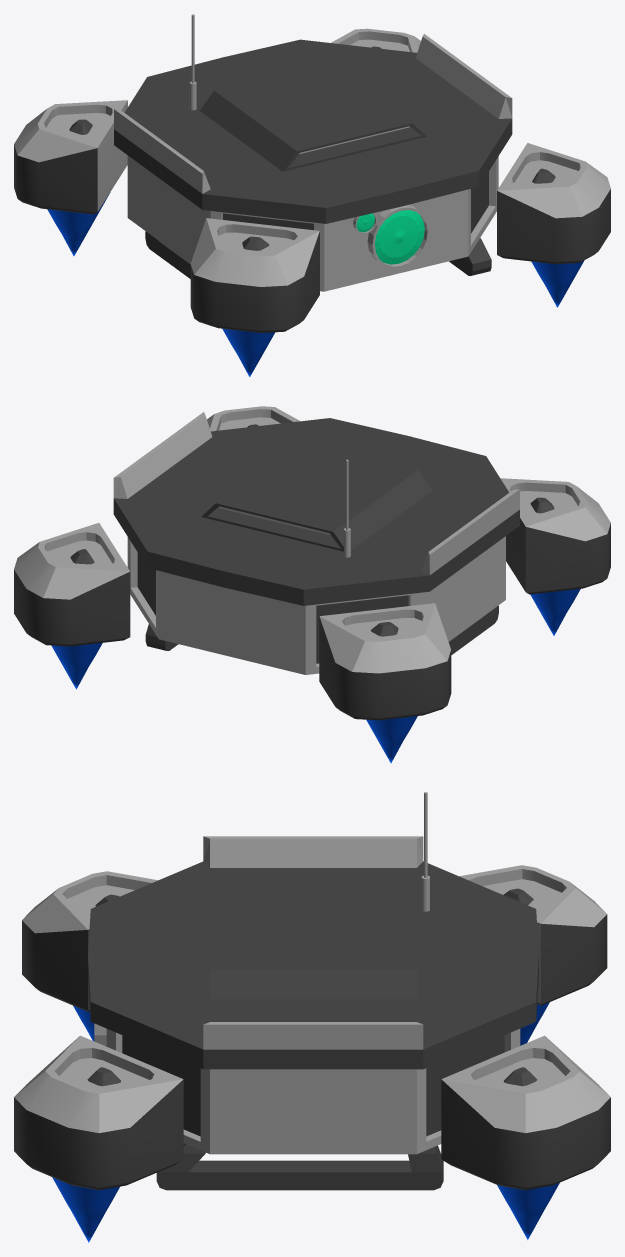
Rendered from ScoutDrone.fbx.
3 views of the same model, one above another, from view 1: azimuth 30°, elevation 25°; view 2: azimuth 150°, elevation 25°; view 3: azimuth 270°, elevation 25° (orthographic). The views are drawn at different scales.
Parts seen in each view (by area): view 1: Body, FrontRightEngine, FrontLeftEngine, RearRightEngine, RearLeftEngine, JetEffect5, JetEffect6, JetEffect4, Antenna; view 2: Body, RearRightEngine, RearLeftEngine, FrontRightEngine, FrontLeftEngine, JetEffect6, JetEffect5, JetEffect7; view 3: Body, RearLeftEngine, FrontLeftEngine, RearRightEngine, FrontRightEngine, JetEffect4, JetEffect7, Antenna.
Part boxes in pixels (box(x1,y1,x2,y2)): Body: box(114, 34, 512, 291); FrontRightEngine: box(190, 218, 319, 332); FrontLeftEngine: box(497, 143, 610, 264); RearRightEngine: box(14, 100, 127, 214); RearLeftEngine: box(331, 28, 420, 52); JetEffect5: box(222, 328, 274, 376); JetEffect6: box(47, 192, 110, 255); JetEffect4: box(531, 260, 584, 307); Antenna: box(189, 14, 196, 110); Body: box(113, 412, 519, 674); RearRightEngine: box(319, 603, 451, 720); RearLeftEngine: box(14, 523, 130, 646); FrontRightEngine: box(500, 478, 610, 594); FrontLeftEngine: box(207, 406, 300, 431); JetEffect6: box(366, 716, 417, 763); JetEffect5: box(530, 588, 580, 635); JetEffect7: box(51, 643, 102, 689); Body: box(88, 836, 538, 1190); RearLeftEngine: box(441, 1035, 610, 1190); FrontLeftEngine: box(14, 1035, 183, 1190); RearRightEngine: box(459, 865, 607, 1005); FrontRightEngine: box(22, 871, 157, 1011); JetEffect4: box(52, 1177, 119, 1242); JetEffect7: box(497, 1182, 559, 1239); Antenna: box(421, 792, 429, 911).
Bounding box in the file's own units: 1.08 × 0.6117 × 1.06.
Materials: 4 (1 with a texture image).
